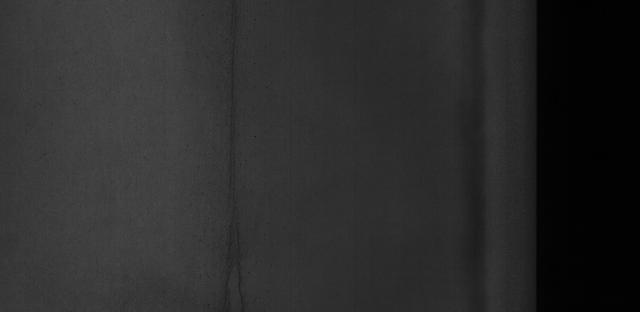silk_spot: (209, 7, 276, 309)
